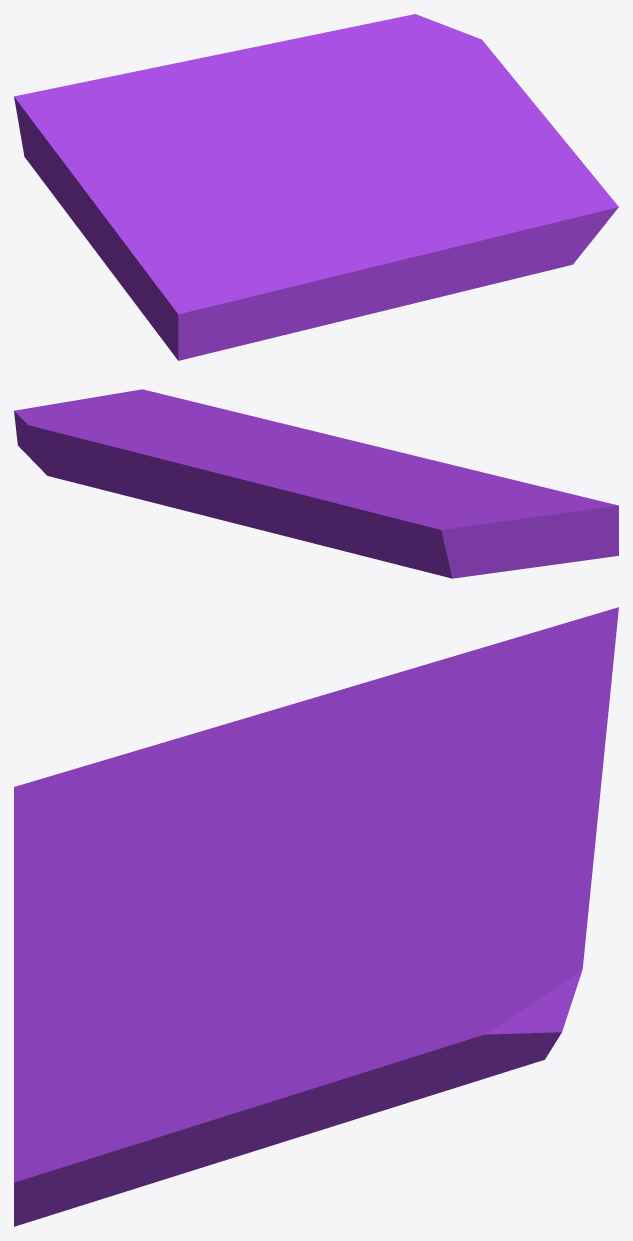
The model's file is Window_143_2_chunks.fbx.
The picture shows the model from 3 angles, top to bottom: view 1: azimuth 30°, elevation 25°; view 2: azimuth 150°, elevation 25°; view 3: azimuth 270°, elevation 25°; orthographic projection. The views are drawn at different scales.
Parts seen in each view (by area): view 1: Window_143_2_6, Window_143_2_5, Window_143_2_3, Window_143_2_7, Window_143_2_10, Window_143_2_11, Window_143_2_14, Window_143_2_2, Window_143_2_8, Window_143_2_1, Window_143_2_12, Window_143_2_0 (+1 smaller); view 2: Window_143_2_6, Window_143_2_5, Window_143_2_11, Window_143_2_8, Window_143_2_4, Window_143_2_3, Window_143_2_7, Window_143_2_10, Window_143_2_2, Window_143_2_1, Window_143_2_0, Window_143_2_14 (+2 smaller); view 3: Window_143_2_6, Window_143_2_5, Window_143_2_10, Window_143_2_11, Window_143_2_2, Window_143_2_3, Window_143_2_7, Window_143_2_8, Window_143_2_1, Window_143_2_14, Window_143_2_0, Window_143_2_13 (+3 smaller).
Boxes of the visible parts, bbox=[...] form: Window_143_2_6: bbox=[14, 52, 231, 236]; Window_143_2_5: bbox=[85, 188, 296, 360]; Window_143_2_3: bbox=[243, 161, 403, 344]; Window_143_2_7: bbox=[229, 52, 315, 227]; Window_143_2_10: bbox=[391, 54, 561, 140]; Window_143_2_11: bbox=[278, 14, 493, 91]; Window_143_2_14: bbox=[485, 180, 618, 283]; Window_143_2_2: bbox=[375, 137, 596, 185]; Window_143_2_8: bbox=[232, 42, 395, 135]; Window_143_2_1: bbox=[397, 176, 531, 260]; Window_143_2_12: bbox=[379, 222, 494, 311]; Window_143_2_0: bbox=[310, 117, 415, 189]; Window_143_2_6: bbox=[220, 473, 539, 578]; Window_143_2_5: bbox=[406, 470, 618, 569]; Window_143_2_11: bbox=[14, 409, 169, 492]; Window_143_2_8: bbox=[141, 437, 249, 519]; Window_143_2_4: bbox=[218, 475, 374, 558]; Window_143_2_3: bbox=[261, 441, 523, 482]; Window_143_2_7: bbox=[217, 458, 410, 483]; Window_143_2_10: bbox=[25, 398, 210, 438]; Window_143_2_2: bbox=[89, 392, 265, 445]; Window_143_2_1: bbox=[179, 409, 374, 446]; Window_143_2_0: bbox=[203, 434, 344, 462]; Window_143_2_14: bbox=[123, 389, 284, 424]; Window_143_2_6: bbox=[278, 607, 618, 820]; Window_143_2_5: bbox=[14, 707, 283, 886]; Window_143_2_10: bbox=[211, 956, 462, 1143]; Window_143_2_11: bbox=[415, 846, 594, 1065]; Window_143_2_2: bbox=[88, 950, 285, 1181]; Window_143_2_3: bbox=[14, 865, 260, 987]; Window_143_2_7: bbox=[149, 801, 599, 899]; Window_143_2_8: bbox=[308, 804, 599, 965]; Window_143_2_1: bbox=[14, 972, 211, 1099]; Window_143_2_14: bbox=[14, 1060, 93, 1226]; Window_143_2_0: bbox=[227, 884, 399, 985]; Window_143_2_13: bbox=[60, 1112, 157, 1212].
Size of the model in its own units: 995 by 311 by 643.
